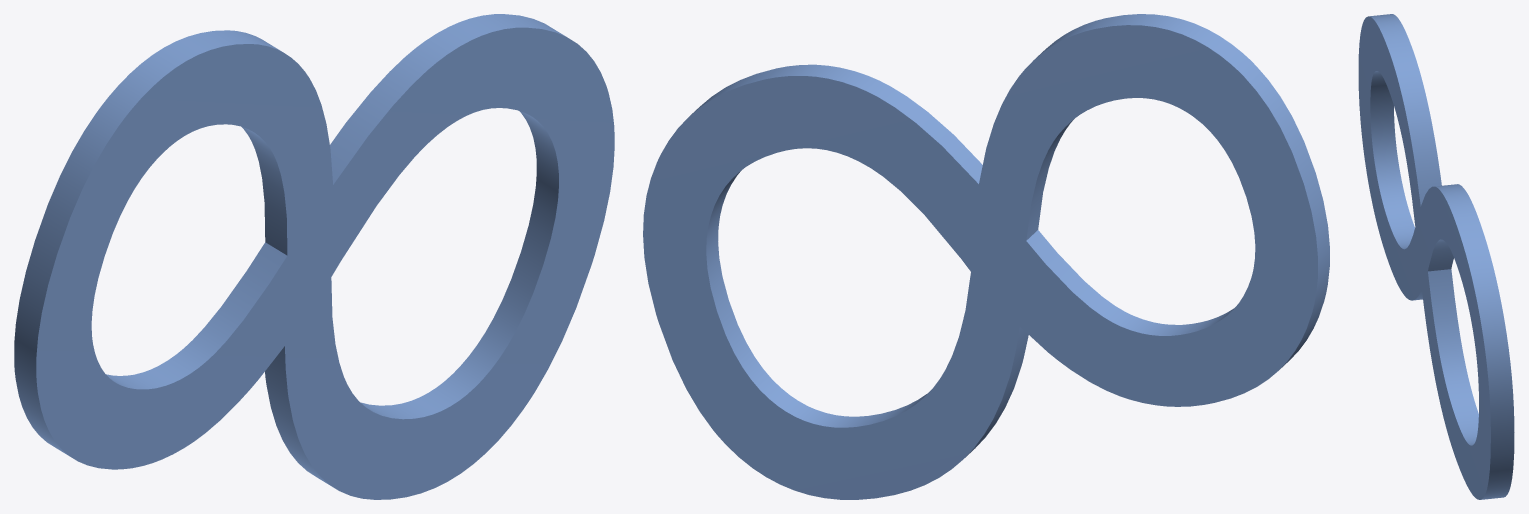
File: New_Number_8.gltf
3 renders of one model, left to right at view 1: azimuth 30°, elevation 25°; view 2: azimuth 150°, elevation 25°; view 3: azimuth 270°, elevation 25°, orthographic. The views are drawn at different scales.
Visible parts, largest first — view 1: Part 125; view 2: Part 125; view 3: Part 125.
Boxes of the visible parts, bbox=[...] form: Part 125: bbox=[14, 14, 614, 499]; Part 125: bbox=[643, 14, 1329, 499]; Part 125: bbox=[1358, 14, 1514, 499].
Bounding box in the file's own units: 0.00553 × 0.00438 × 0.00167.
